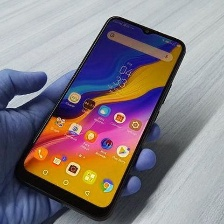phone: (9, 13, 190, 224)
